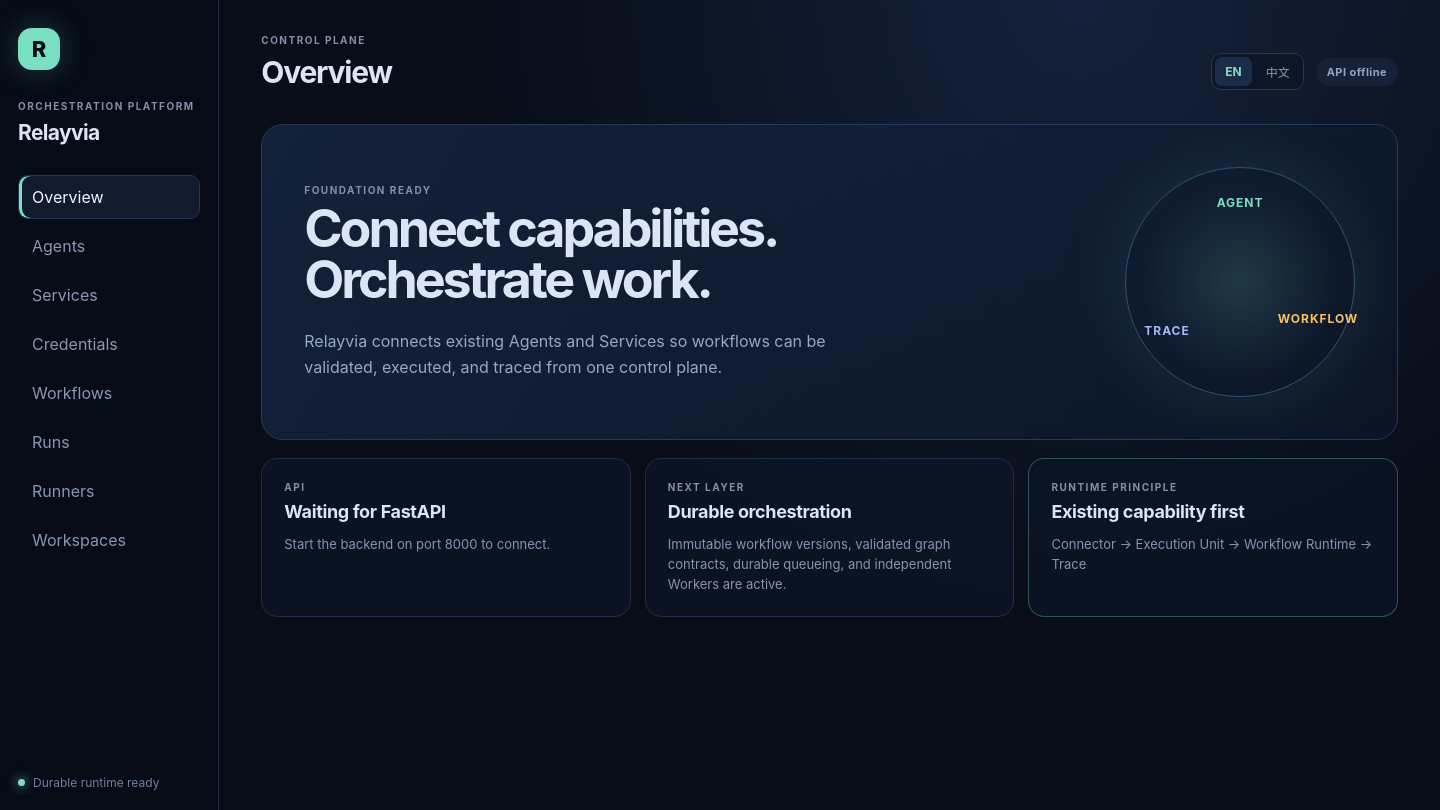
Test: App language switch › switches the navigation and overview copy to Chinese
Expected: the button "Agents" is shown, [18,224,200,268]
Click the button "中文".
click(1278, 72)  # box [1256,57,1300,86]
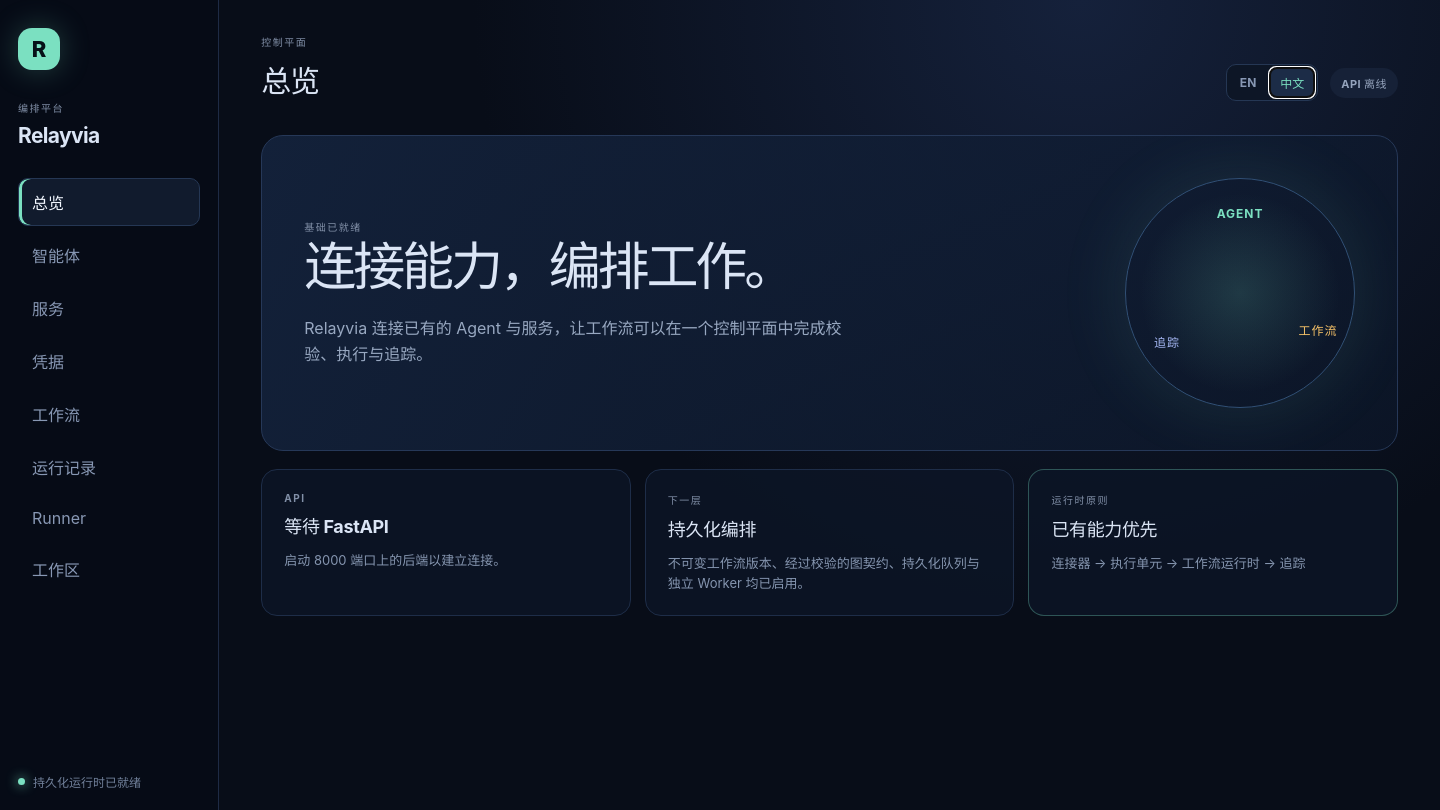
Expected: the button "智能体" is shown, [18,231,200,279]
Expected: the text "编排平台" is shown, [18,102,64,114]
Expected: the button "Agents" is gone
